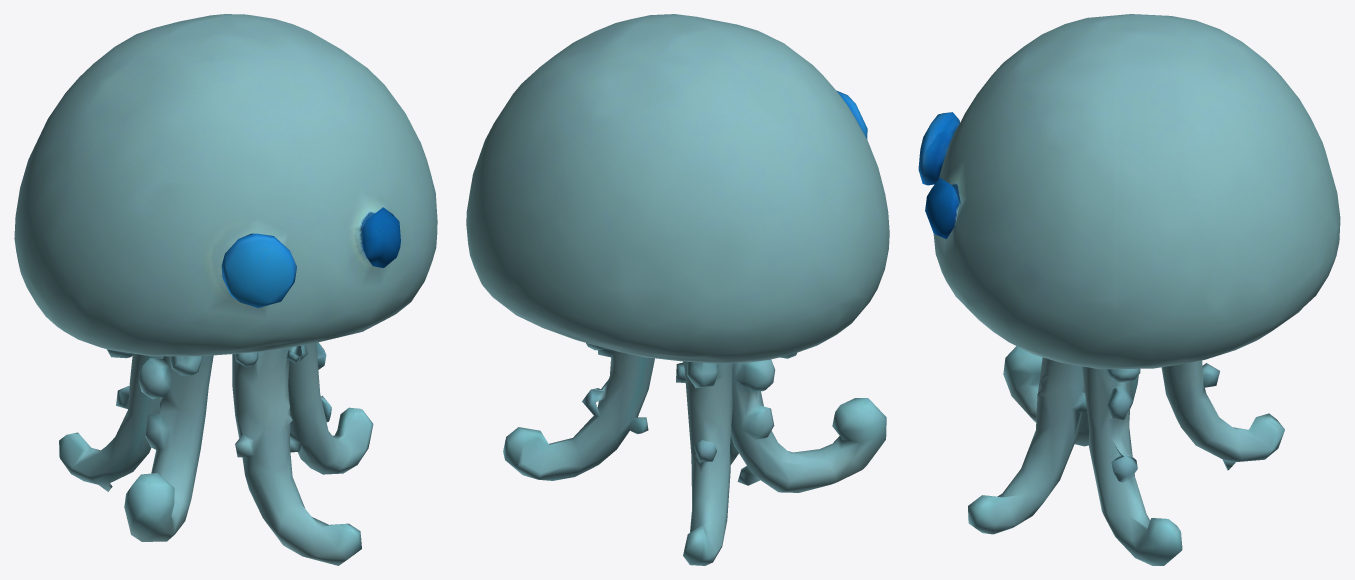
The model's file is utility_jellyshield_3000_v2.glb.
The picture shows the model from 3 angles, left to right: view 1: azimuth 30°, elevation 25°; view 2: azimuth 150°, elevation 25°; view 3: azimuth 270°, elevation 25°; orthographic projection.
Parts seen in each view (by area): view 1: tripo_node_9d209776-23a6-4bb8-9dd9-3fb79a7f1f01; view 2: tripo_node_9d209776-23a6-4bb8-9dd9-3fb79a7f1f01; view 3: tripo_node_9d209776-23a6-4bb8-9dd9-3fb79a7f1f01.
Part boxes in pixels (x1,y1,x2,y2): tripo_node_9d209776-23a6-4bb8-9dd9-3fb79a7f1f01: (14, 14, 437, 565); tripo_node_9d209776-23a6-4bb8-9dd9-3fb79a7f1f01: (466, 14, 889, 565); tripo_node_9d209776-23a6-4bb8-9dd9-3fb79a7f1f01: (918, 14, 1340, 565).
Size of the model in its own units: 0.7878 by 0.9794 by 0.7758.
Materials: 1 (1 with a texture image).
